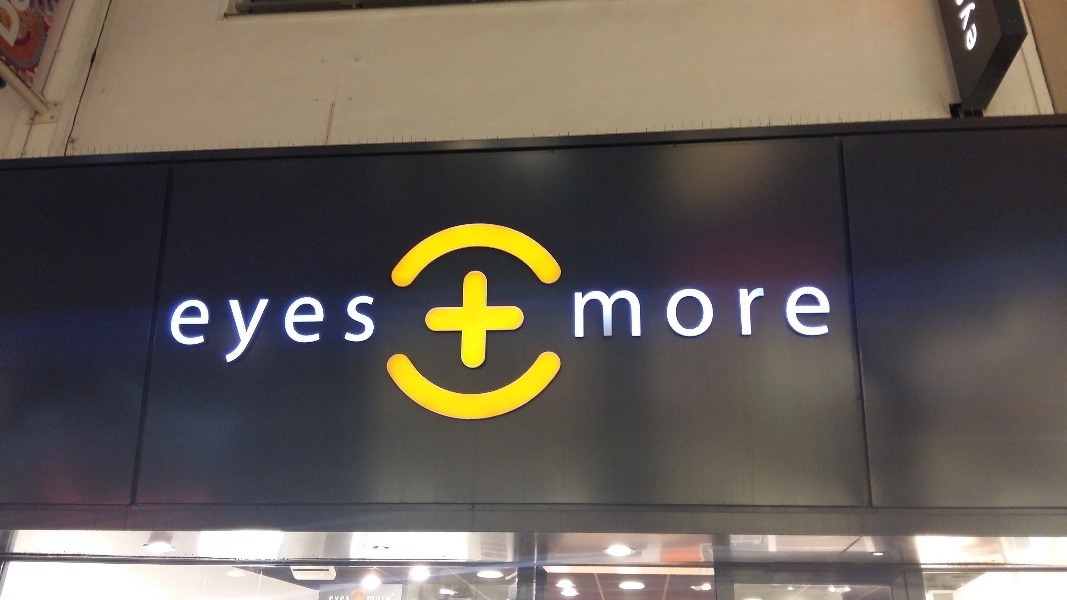text: (433, 269, 448, 369), (449, 269, 464, 369), (465, 269, 480, 369), (481, 269, 496, 369), (497, 269, 512, 369), (513, 269, 526, 369), (177, 295, 192, 364), (193, 295, 208, 364), (209, 295, 224, 364), (225, 295, 240, 364), (241, 295, 256, 364), (257, 295, 272, 364), (273, 295, 288, 364), (289, 295, 304, 364), (305, 295, 320, 364), (321, 295, 336, 364), (337, 295, 352, 364), (353, 295, 368, 364), (577, 287, 592, 338), (593, 287, 608, 338), (609, 287, 624, 338), (625, 287, 640, 338), (641, 287, 656, 338), (657, 287, 672, 338), (673, 287, 688, 338), (689, 287, 704, 338), (705, 287, 720, 338), (721, 287, 736, 338), (737, 287, 752, 338), (753, 287, 768, 338), (769, 287, 784, 338), (785, 287, 800, 338), (801, 287, 816, 338), (817, 287, 831, 338), (426, 269, 432, 369), (369, 295, 375, 364), (173, 295, 176, 364), (574, 287, 576, 338)
